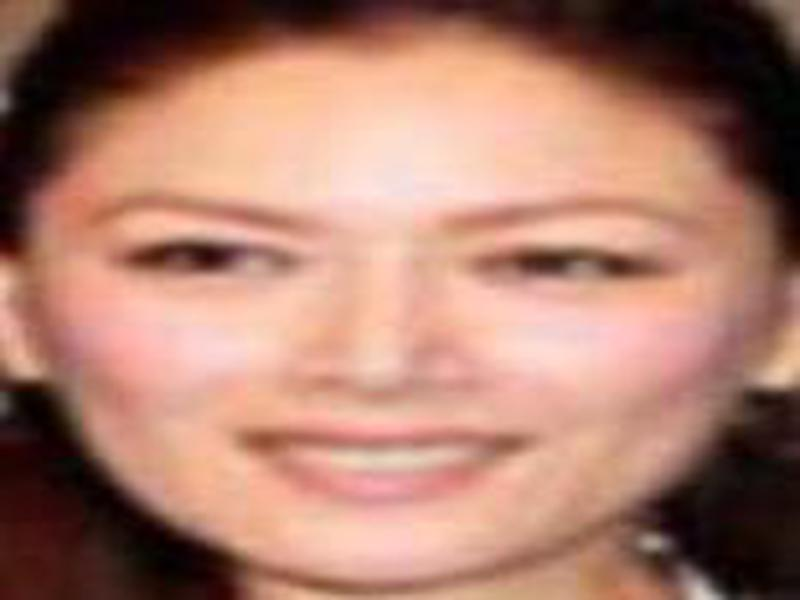without_mask: (31, 101, 740, 589)
